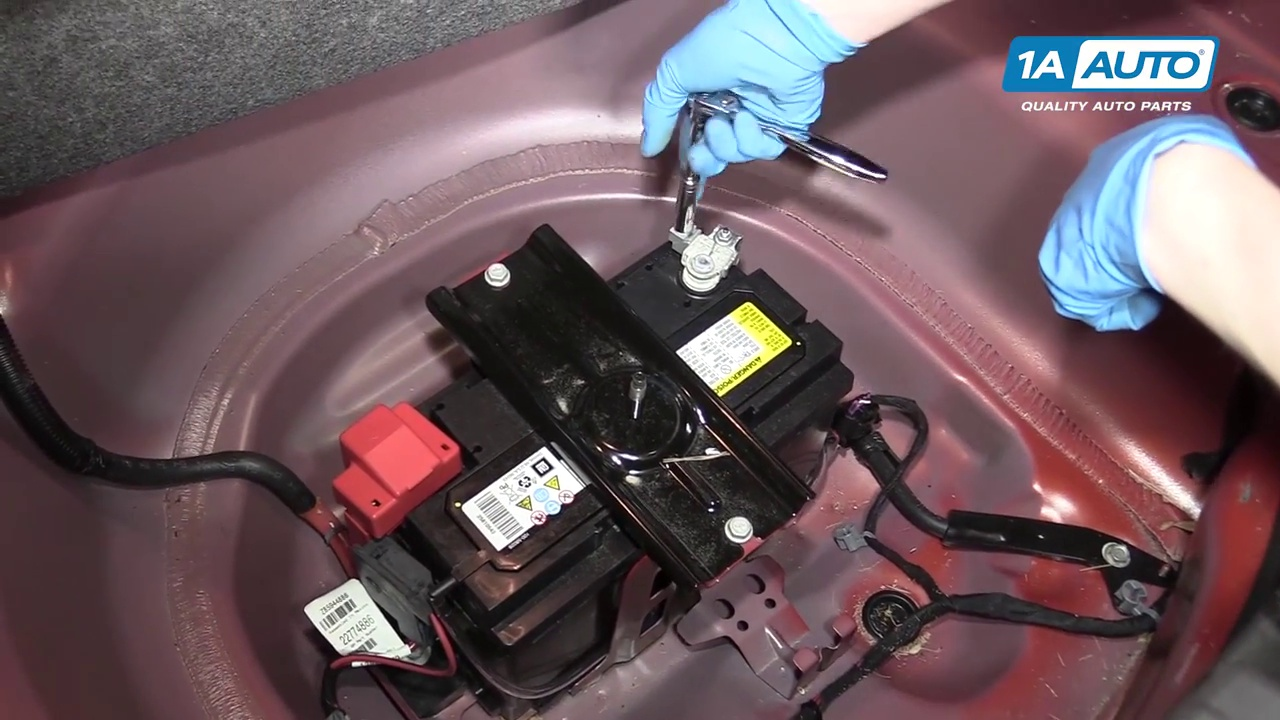battery: (355, 216, 852, 636)
neg_connected: (650, 190, 756, 311)
pos_connected: (312, 410, 460, 530)
